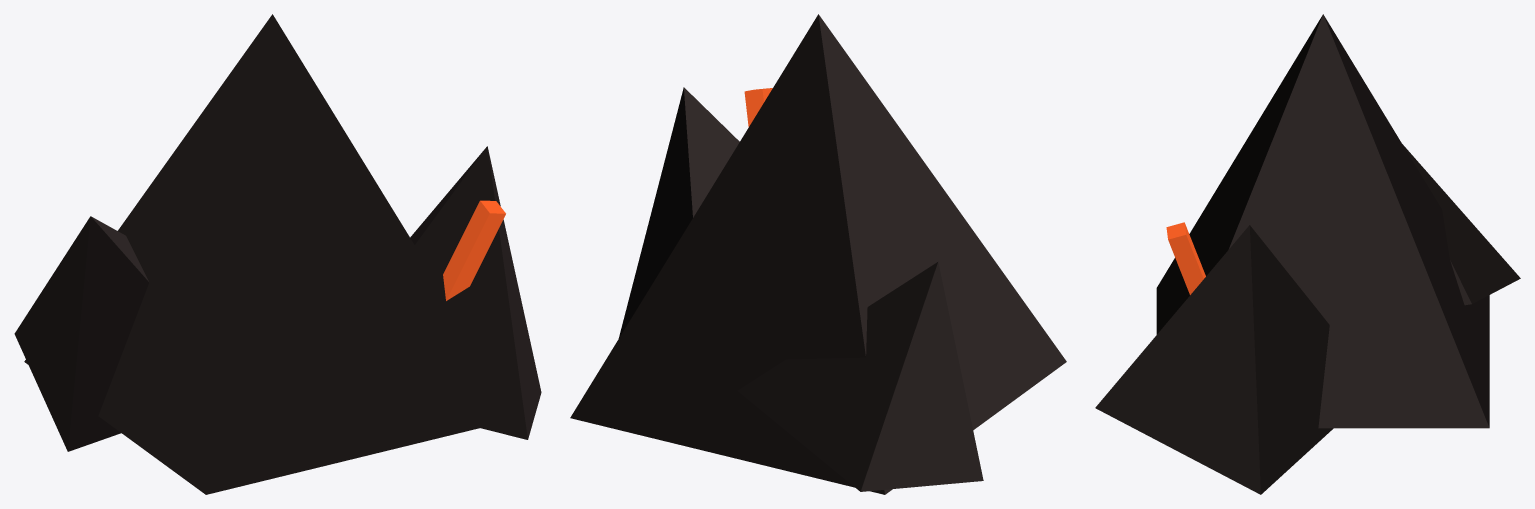
The model's file is dk_spike.glb.
The picture shows the model from 3 angles, left to right: view 1: azimuth 30°, elevation 25°; view 2: azimuth 150°, elevation 25°; view 3: azimuth 270°, elevation 25°; orthographic projection. The views are drawn at different scales.
Parts seen in each view (by area): view 1: dk_spike; view 2: dk_spike; view 3: dk_spike.
Boxes of the visible parts, left/top/right/bottom form: dk_spike: left=14, top=14, right=541, bottom=494; dk_spike: left=570, top=14, right=1066, bottom=494; dk_spike: left=1095, top=14, right=1520, bottom=494.
Size of the model in its own units: 1.17 by 1.09 by 1.12.
2 materials, 2 textured.
